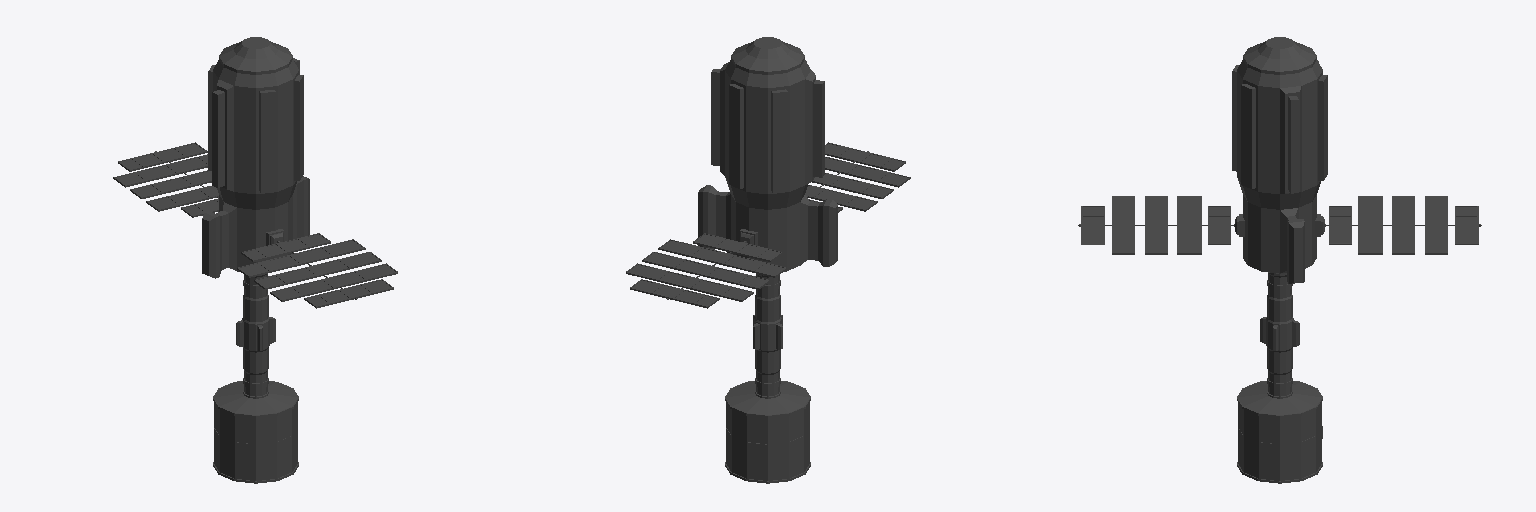
The model's file is Spacestation.obj.
3 views of the same model, side by side, from view 1: azimuth 30°, elevation 25°; view 2: azimuth 150°, elevation 25°; view 3: azimuth 270°, elevation 25° (orthographic).
Visible parts, largest first — view 1: Cylinder001; view 2: Cylinder001; view 3: Cylinder001.
Part boxes in pixels (x1,y1,x2,y2): Cylinder001: (113,37,397,483); Cylinder001: (626,37,910,483); Cylinder001: (1078,37,1481,483).
Bounding box in the file's own units: 6 × 20.08 × 17.25.